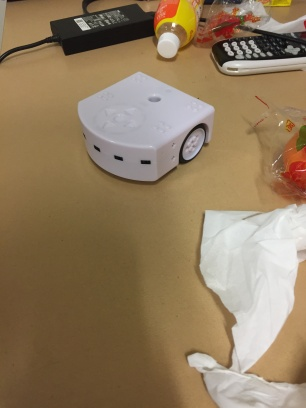thymio: (67, 70, 216, 186)
